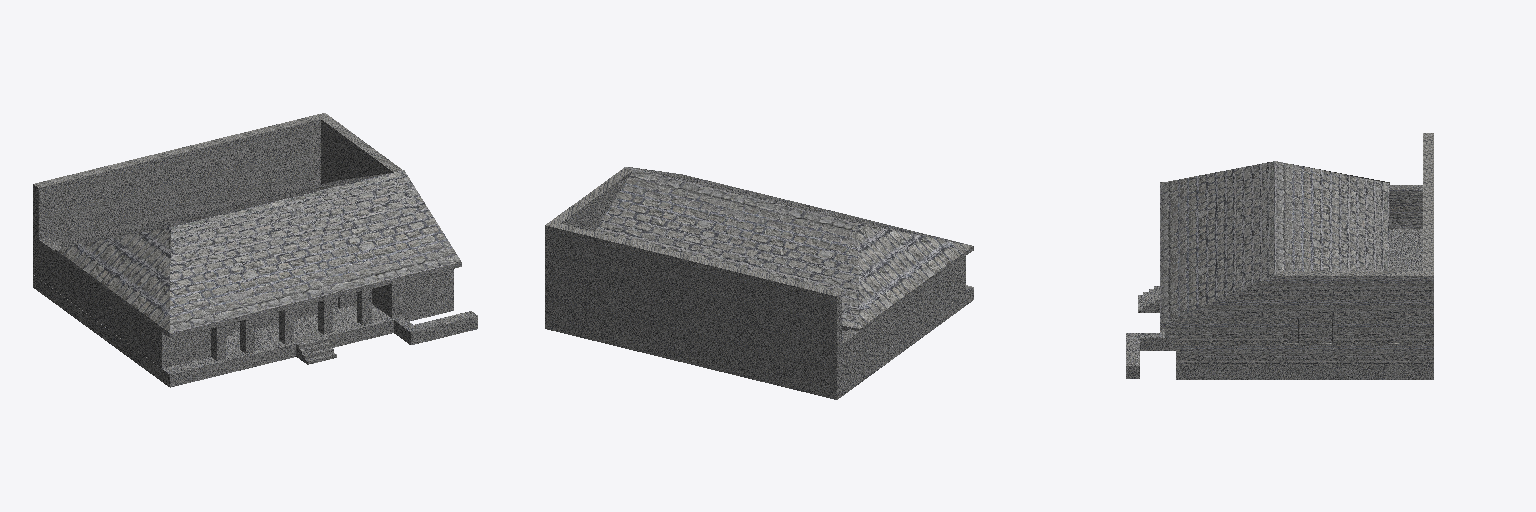
The picture shows the model from 3 angles: view 1: azimuth 30°, elevation 25°; view 2: azimuth 150°, elevation 25°; view 3: azimuth 270°, elevation 25°; orthographic projection.
Parts seen in each view (by area): view 1: Plane001, Plane002; view 2: Plane001, Plane002; view 3: Plane001, Plane002.
Part boxes in pixels (x1,y1,x2,y2): Plane001: (33,113,461,368); Plane002: (33,275,477,387); Plane001: (545,167,973,386); Plane002: (545,285,973,399); Plane001: (1160,133,1433,365); Plane002: (1126,229,1433,379).
Size of the model in its own units: 323 by 110 by 294.
Materials: 1 (1 with a texture image).